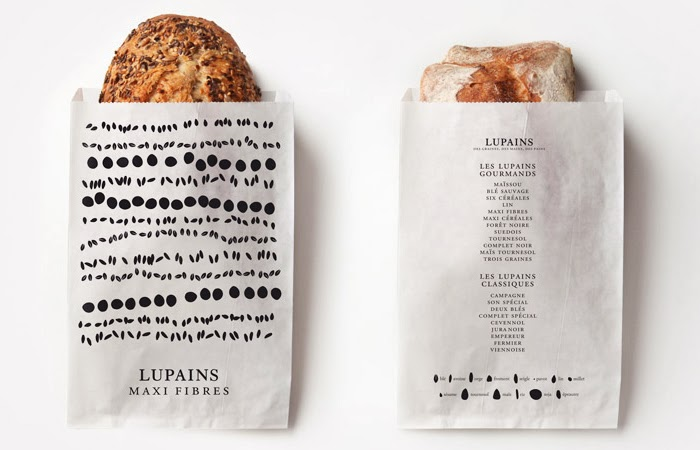Snack: (394, 35, 634, 435)
